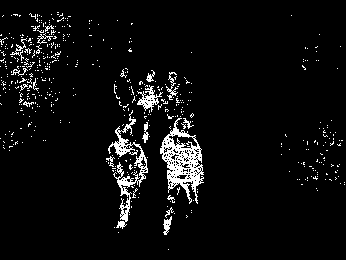person: (163, 115, 205, 233), (110, 125, 144, 229), (163, 71, 192, 126), (139, 68, 159, 138), (114, 66, 137, 125)
